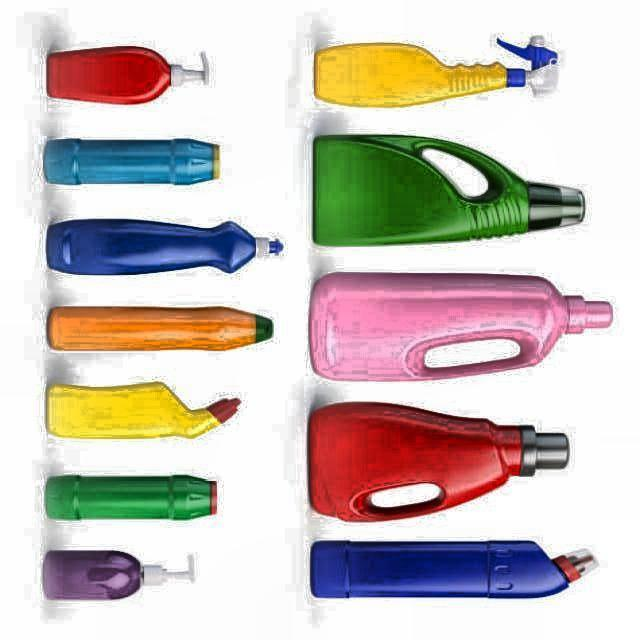plastic: (309, 273, 612, 380), (309, 403, 568, 521), (313, 135, 584, 245), (315, 37, 557, 106), (311, 541, 594, 597), (47, 220, 282, 274), (47, 382, 239, 438), (48, 307, 271, 350), (47, 46, 208, 104), (45, 139, 220, 184), (45, 476, 215, 520), (43, 550, 193, 599)
